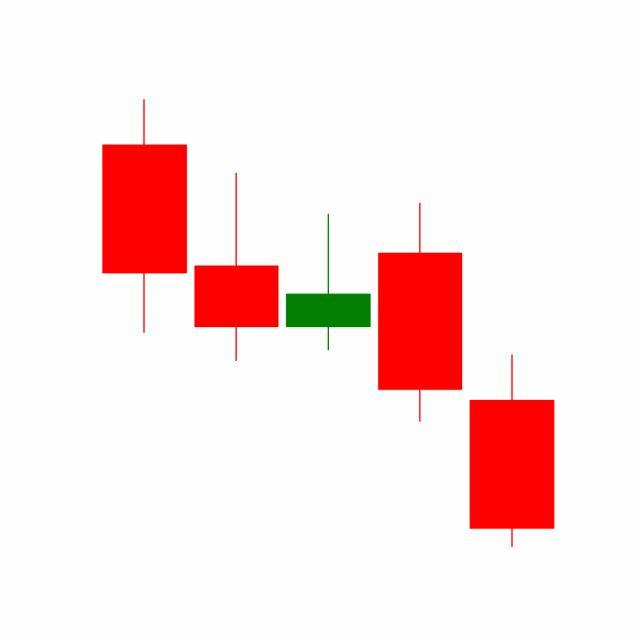Three Outside Up-Down: (280, 199, 555, 549)
